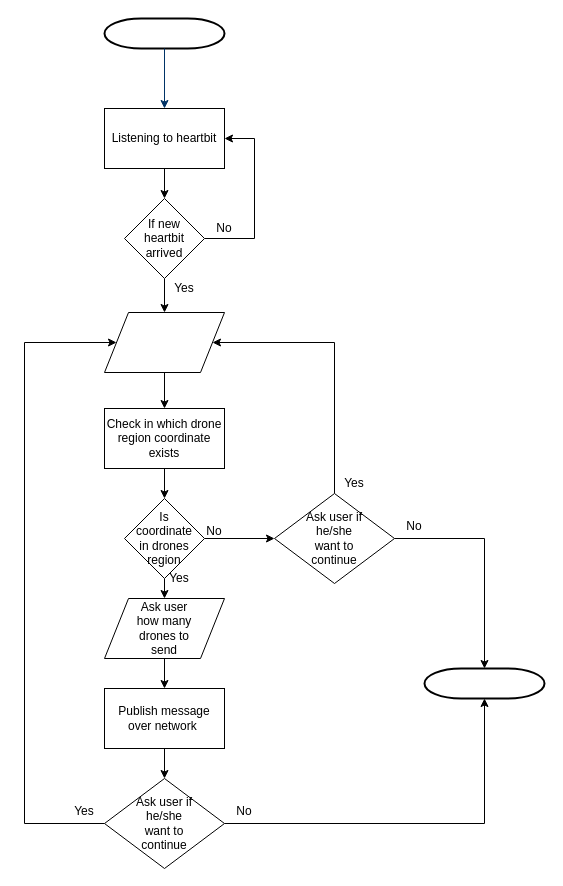
Image size: 563x886. Some labels were removed from this diagram. The centre of each missing label's shape, as x and y in pixels:
end: point (484, 683)
Get destination coordinate from user: point (164, 342)
start: point (164, 33)
